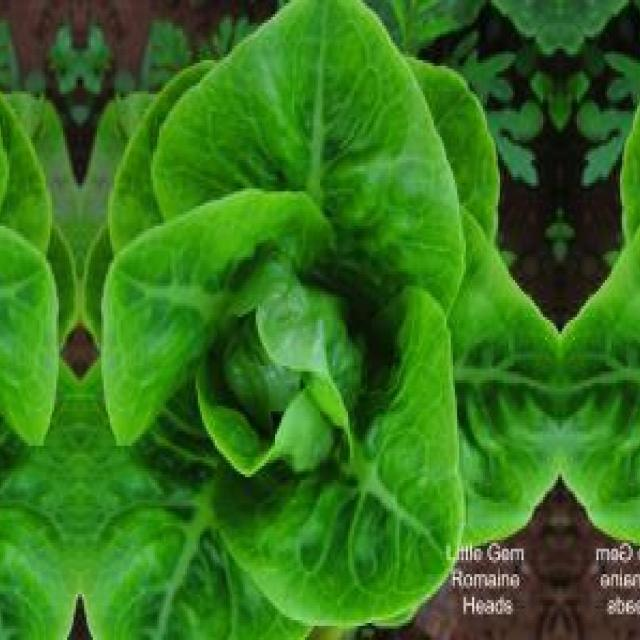healthy: (82, 7, 560, 640), (560, 7, 640, 640), (0, 7, 78, 640)
